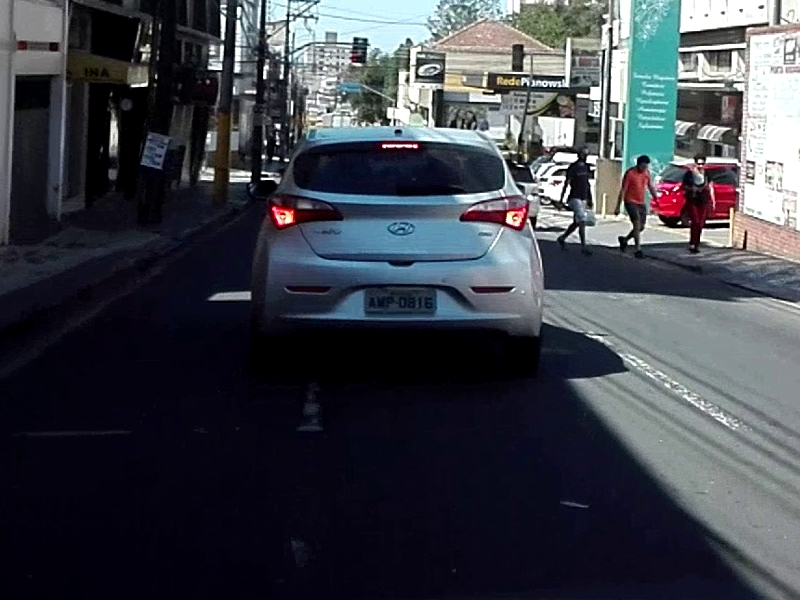placa: (364, 288, 436, 313)
